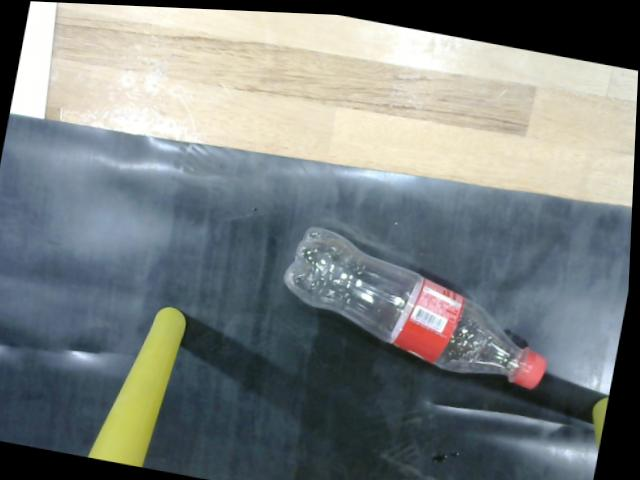bottle: (276, 218, 554, 391)
